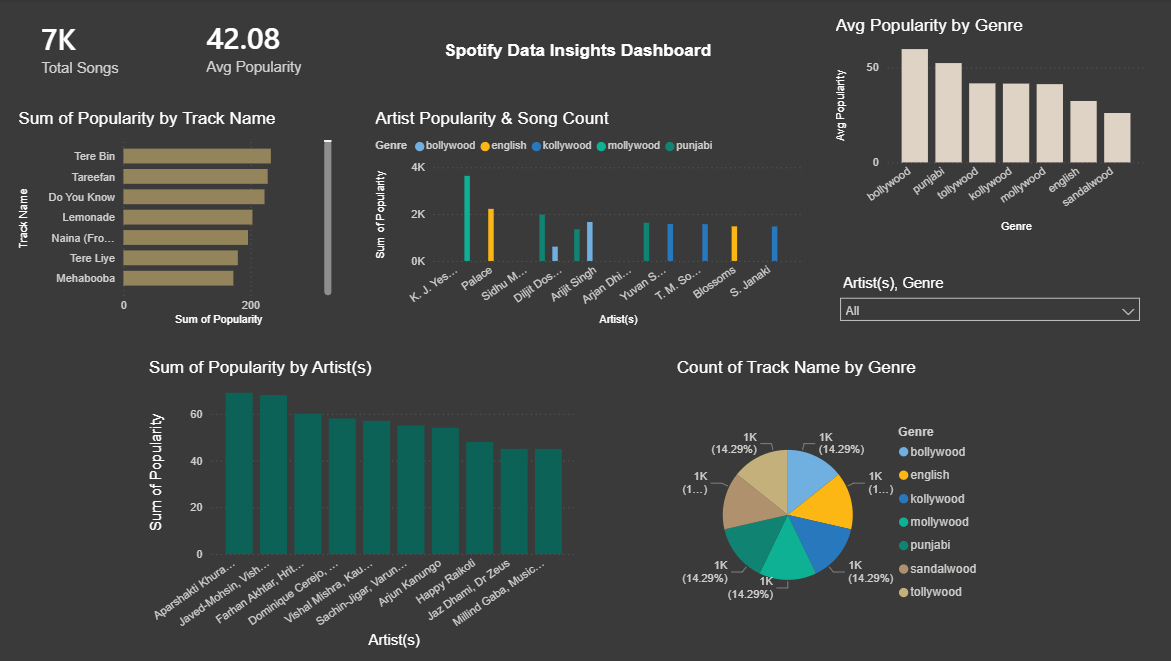

This screenshot's page, from the dashboard's own definition file:
{"tool":"powerbi","page":{"name":"Page 1","canvas":[1280,720],"ordinal":0},"visuals":[{"type":"cardVisual","fields":{"Data":["spotify_dataset.Total Songs"]},"box":[17.8,0,161.9,105.2],"z":0},{"type":"cardVisual","fields":{"Data":["spotify_dataset.Avg Popularity"]},"box":[195.9,0,170,103.6],"z":1000},{"type":"lineClusteredColumnComboChart","fields":{"Category":["spotify_dataset.Artist(s)"],"Y":["Sum(spotify_dataset.Popularity)"]},"box":[158.7,388.6,471.2,317.4],"z":3000},{"type":"clusteredColumnChart","title":"Artist Popularity & Song Count","fields":{"Y":["Sum(spotify_dataset.Popularity)"],"Category":["spotify_dataset.Artist(s)"],"Series":["spotify_dataset.Genre"]},"box":[403.2,119.8,471.2,238],"z":4000},{"type":"lineStackedColumnComboChart","fields":{"Category":["spotify_dataset.Genre"],"Y":["spotify_dataset.Avg Popularity"]},"box":[900.3,19.4,343.3,238],"z":5000},{"type":"slicer","fields":{"Values":["spotify_dataset.Artist(s)","spotify_dataset.Genre"]},"box":[900.3,293.1,343.3,66.4],"z":6000},{"type":"textbox","box":[477.7,40.5,304.4,42.1],"z":7000},{"type":"barChart","fields":{"Category":["spotify_dataset.Track Name"],"Y":["Sum(spotify_dataset.Popularity)"]},"box":[17.8,119.8,348.1,238],"z":8000},{"type":"pieChart","fields":{"Category":["spotify_dataset.Genre"],"Y":["CountNonNull(spotify_dataset.Track Name)"]},"box":[728.7,388.6,343.3,317.4],"z":9000}]}

Visuals, with their boxes in screenshot pixels (x1, y1, x2, y2), scaled from the page's 1280x720 canvas onto the 1171x661 screenshot:
cardVisual - spotify_dataset.Total Songs: 16, 0, 164, 97
cardVisual - spotify_dataset.Avg Popularity: 179, 0, 335, 95
lineClusteredColumnComboChart - spotify_dataset.Artist(s) x Sum(spotify_dataset.Popularity): 145, 357, 576, 648
"Artist Popularity & Song Count" clusteredColumnChart: 369, 110, 800, 328
lineStackedColumnComboChart - spotify_dataset.Genre x spotify_dataset.Avg Popularity: 824, 18, 1138, 236
slicer - spotify_dataset.Artist(s) x spotify_dataset.Genre: 824, 269, 1138, 330
textbox: 437, 37, 715, 76
barChart - spotify_dataset.Track Name x Sum(spotify_dataset.Popularity): 16, 110, 335, 328
pieChart - spotify_dataset.Genre x CountNonNull(spotify_dataset.Track Name): 667, 357, 981, 648
